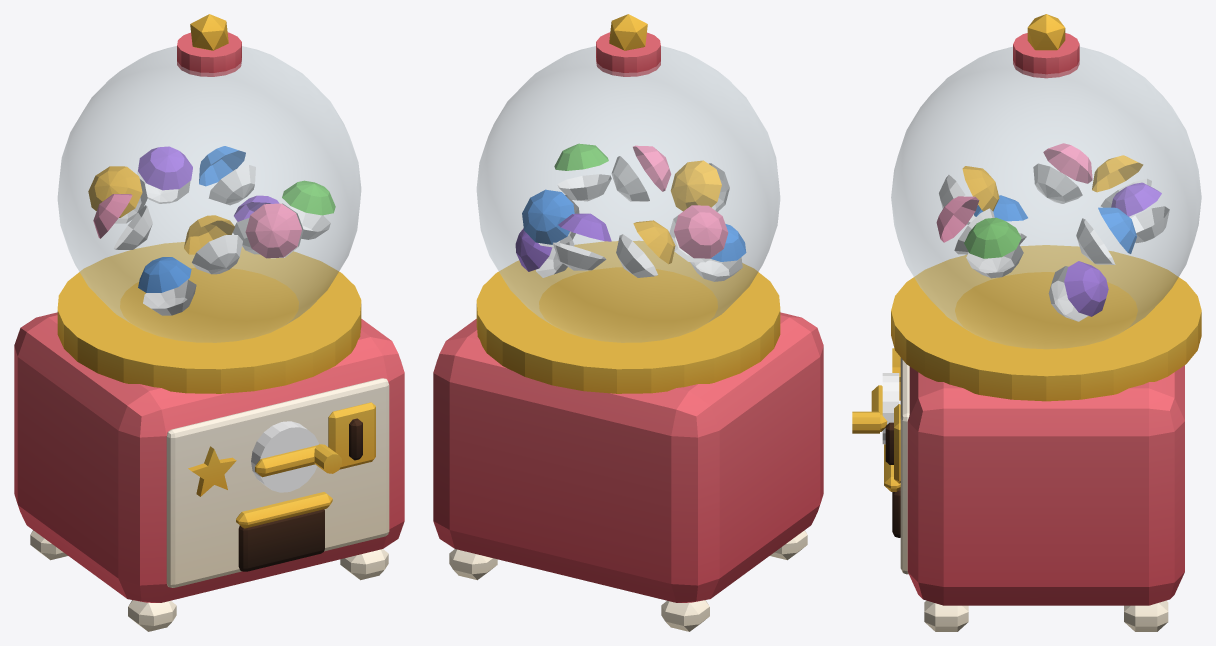
Rendered from gacha_machine.glb.
3 views of the same model, side by side, from view 1: azimuth 30°, elevation 25°; view 2: azimuth 150°, elevation 25°; view 3: azimuth 270°, elevation 25° (orthographic).
Visible parts, largest first — view 1: base, dome, capsules, handle, top; view 2: base, dome, capsules, top; view 3: base, dome, capsules, top, handle.
Boxes of the visible parts, <box> form: base: <box>14,242,404,631</box>; dome: <box>57,46,361,342</box>; capsules: <box>88,146,335,315</box>; handle: <box>251,421,341,492</box>; top: <box>177,14,241,76</box>; base: <box>433,240,823,631</box>; dome: <box>476,46,780,342</box>; capsules: <box>515,143,746,281</box>; top: <box>596,14,660,76</box>; base: <box>884,245,1201,631</box>; dome: <box>891,47,1201,348</box>; capsules: <box>936,143,1169,321</box>; top: <box>1013,14,1079,78</box>; handle: <box>852,373,899,444</box>.
Bounding box in the file's own units: 1.2 × 2.23 × 1.26.
2 materials, 1 textured.
